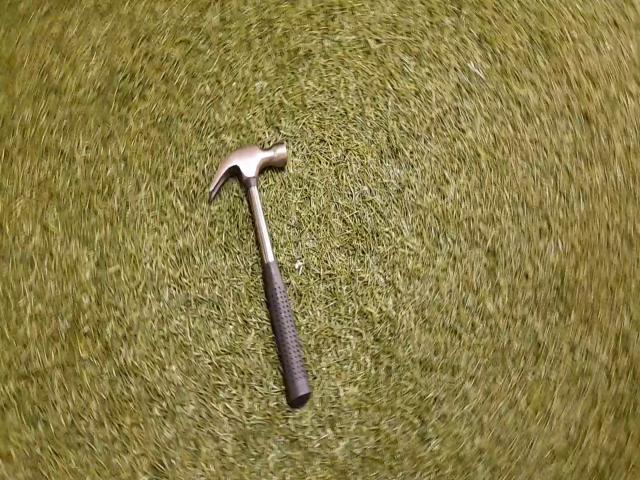Hammer: (210, 143, 311, 408)
